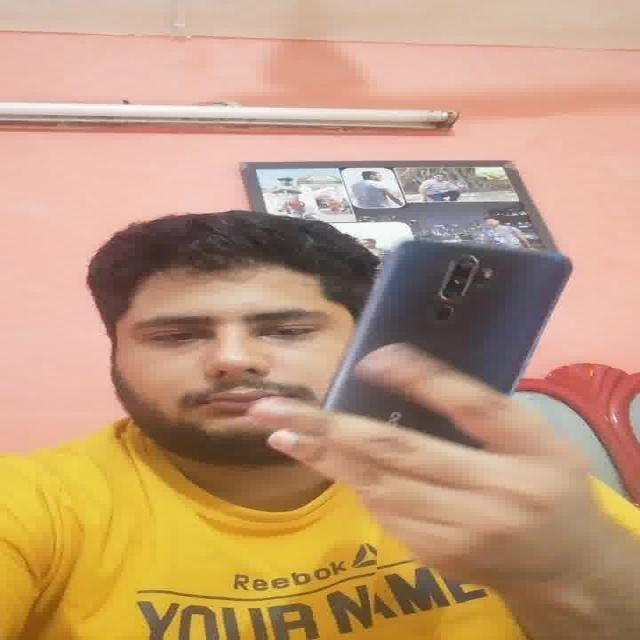Phone: (322, 242, 573, 424)
